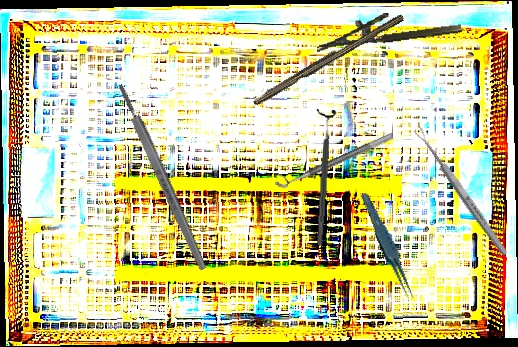Fixation Ring: (270, 122, 395, 192), (308, 109, 338, 246)
Needle Holder: (313, 4, 463, 52)
Scalpel Handle: (115, 82, 209, 272), (251, 9, 405, 109)
Surgical Spoon: (412, 125, 510, 257)
Tissue Forceps: (359, 189, 417, 306)
